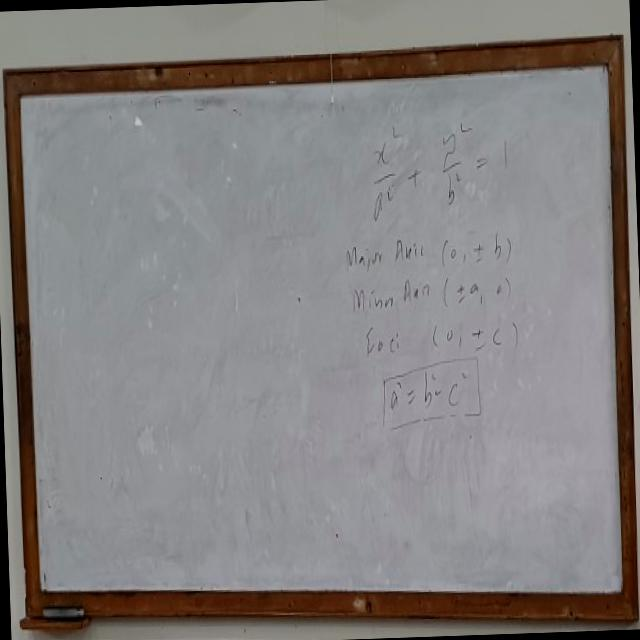White-board: (14, 51, 632, 611)
